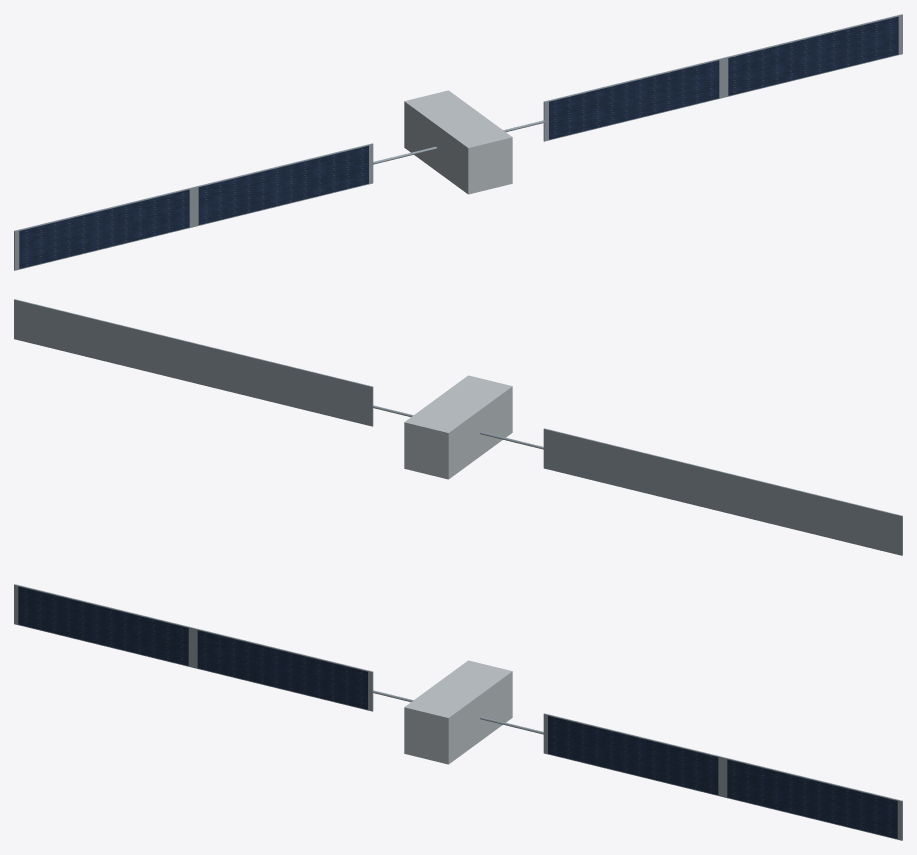
The model's file is ref-ls-400-25770.glb.
3 views of the same model, one above another, from view 1: azimuth 30°, elevation 25°; view 2: azimuth 150°, elevation 25°; view 3: azimuth 330°, elevation 25° (orthographic).
Parts seen in each view (by area): view 1: Photovoltaic laminates (×4), Spacecraft body, Array frame (×4); view 2: Array frame (×4), Spacecraft body; view 3: Photovoltaic laminates (×4), Spacecraft body, Array frame (×4).
Boxes of the visible parts, box(x1,y1,x2,y2) form: Photovoltaic laminates (×4): box(19, 16, 898, 268); Spacecraft body: box(404, 90, 512, 194); Array frame (×4): box(14, 14, 902, 270); Array frame (×4): box(14, 299, 902, 555); Spacecraft body: box(404, 375, 512, 479); Photovoltaic laminates (×4): box(18, 586, 897, 838); Spacecraft body: box(404, 660, 512, 764); Array frame (×4): box(14, 584, 902, 840).
Size of the model in its own units: 12 by 0.6 by 1.5.
Materials: 3 (1 with a texture image).
